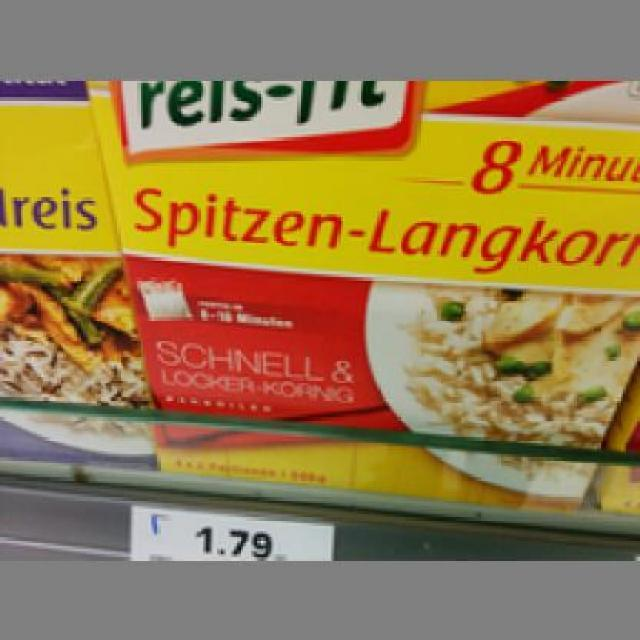Rice: (82, 77, 638, 514)
